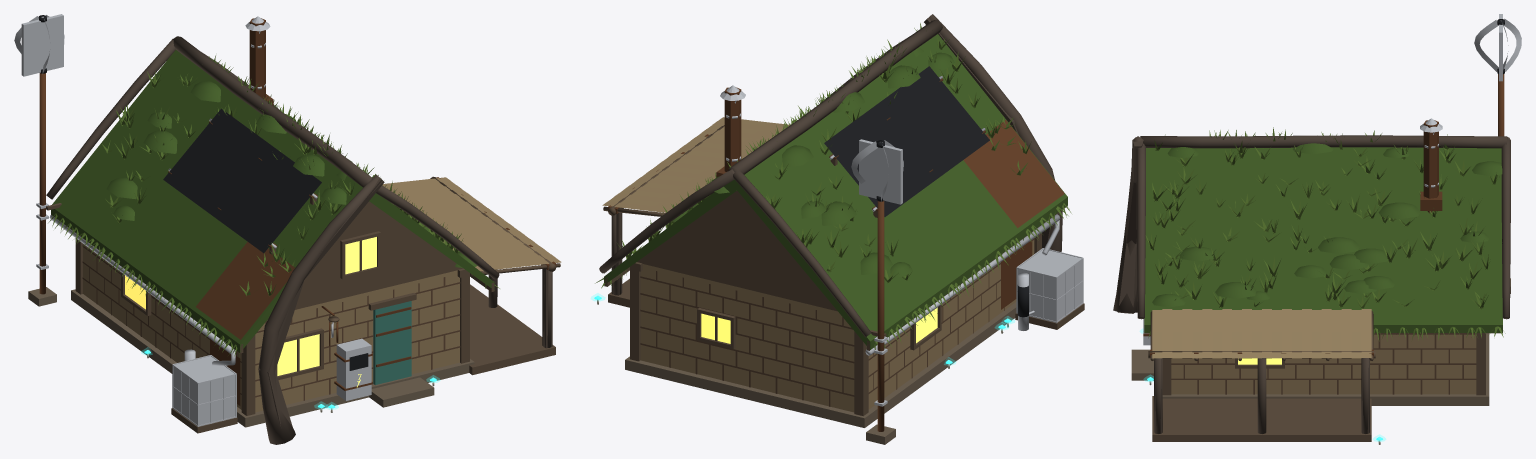
The model's file is cottage.glb.
3 renders of one model, left to right at view 1: azimuth 30°, elevation 25°; view 2: azimuth 150°, elevation 25°; view 3: azimuth 270°, elevation 25°, orthographic. The views are drawn at different scales.
Parts seen in each view (by area): view 1: Cottage_RoofLeft, Cottage_WallFront, Cottage_GableFront, Cottage_FarWalls, Cottage_RoofPatch, Cottage_Grass, Cottage_WallLeft, Cottage_PorchShade, Cottage_GrownRib, Cottage_FarSolar, Cottage_PorchFloor, Cottage_MossMounds (+27 smaller); view 2: Cottage_RoofLeft, Cottage_WallBack, Cottage_GableBack, Cottage_FarSolar, Cottage_Plinth, Cottage_RoofPatch, Cottage_Grass, Cottage_BlockJoints, Cottage_FarWalls, Cottage_PorchShade, Cottage_MossMounds, Cottage_RidgeBeam (+22 smaller); view 3: Cottage_RoofRight, Cottage_FarWalls, Cottage_PorchFloor, Cottage_PorchShade, Cottage_Grass, Cottage_MossMounds, Cottage_RidgeBeam, Cottage_FarPorch, Cottage_Plinth, Cottage_BlockJoints, Cottage_FarRib, Cottage_BargeBackRight (+11 smaller).
Part boxes in pixels (box(x1,y1,x2,y2)): Cottage_RoofLeft: box(51, 50, 362, 352); Cottage_WallFront: box(240, 270, 459, 412); Cottage_GableFront: box(295, 201, 462, 309); Cottage_FarWalls: box(83, 245, 459, 411); Cottage_RoofPatch: box(196, 242, 294, 339); Cottage_Grass: box(48, 55, 499, 356); Cottage_WallLeft: box(87, 247, 240, 408); Cottage_PorchShade: box(382, 177, 561, 271); Cottage_GrownRib: box(258, 174, 383, 444); Cottage_FarSolar: box(163, 108, 320, 252); Cottage_PorchFloor: box(469, 284, 555, 375); Cottage_MossMounds: box(106, 58, 477, 267); Cottage_RoofLeft: box(737, 34, 1067, 349); Cottage_WallBack: box(640, 264, 854, 412); Cottage_GableBack: box(637, 191, 837, 311); Cottage_FarSolar: box(824, 66, 989, 216); Cottage_Plinth: box(625, 302, 1016, 427); Cottage_RoofPatch: box(963, 120, 1064, 227); Cottage_Grass: box(595, 23, 1071, 354); Cottage_BlockJoints: box(640, 238, 1034, 406); Cottage_FarWalls: box(640, 240, 1034, 409); Cottage_PorchShade: box(603, 121, 789, 211); Cottage_MossMounds: box(672, 47, 954, 277); Cottage_RidgeBeam: box(728, 19, 942, 179); Cottage_RoofRight: box(1144, 147, 1502, 332); Cottage_FarWalls: box(1171, 334, 1476, 394); Cottage_PorchFloor: box(1152, 396, 1371, 441); Cottage_PorchShade: box(1152, 309, 1371, 358); Cottage_Grass: box(1145, 127, 1505, 341); Cottage_MossMounds: box(1152, 143, 1502, 307); Cottage_RidgeBeam: box(1140, 135, 1507, 148); Cottage_FarPorch: box(1152, 332, 1371, 357); Cottage_Plinth: box(1162, 333, 1489, 405); Cottage_BlockJoints: box(1171, 333, 1476, 394); Cottage_FarRib: box(1116, 136, 1143, 313); Cottage_BargeBackRight: box(1501, 139, 1510, 319).
Bounding box in the file's own units: 9.93 × 7.61 × 10.26.
